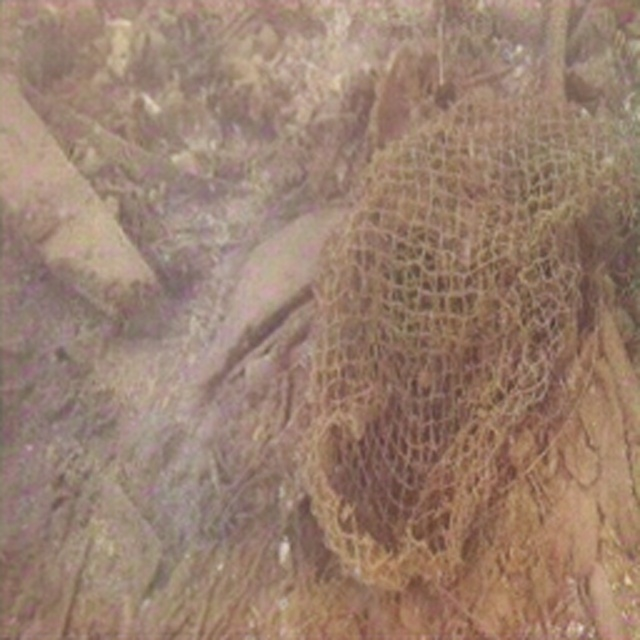mine: (302, 98, 639, 591)
